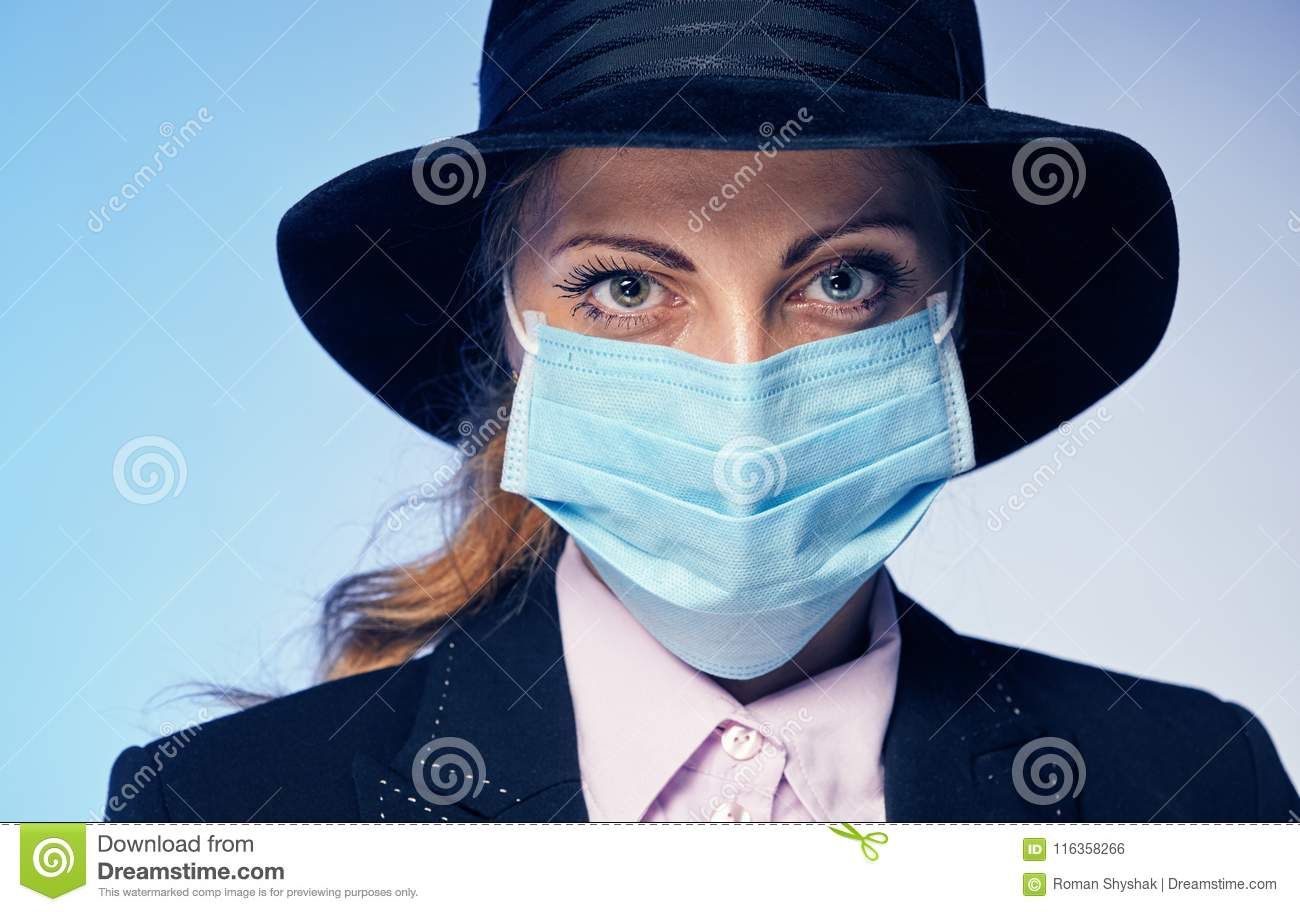mask: (502, 314, 970, 674)
